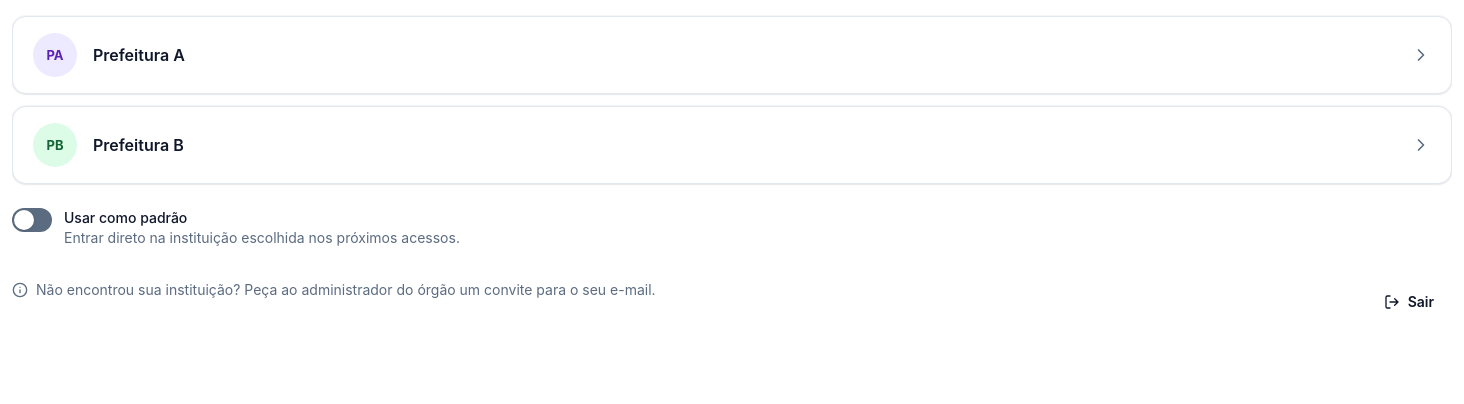
Test case: seleção de instituição (FA-01) › erro 403 TENANT_SUSPENDED vira mensagem inline com role=alert
Click the button "PA Prefeitura A": (55, 55) [12,16,1452,94]
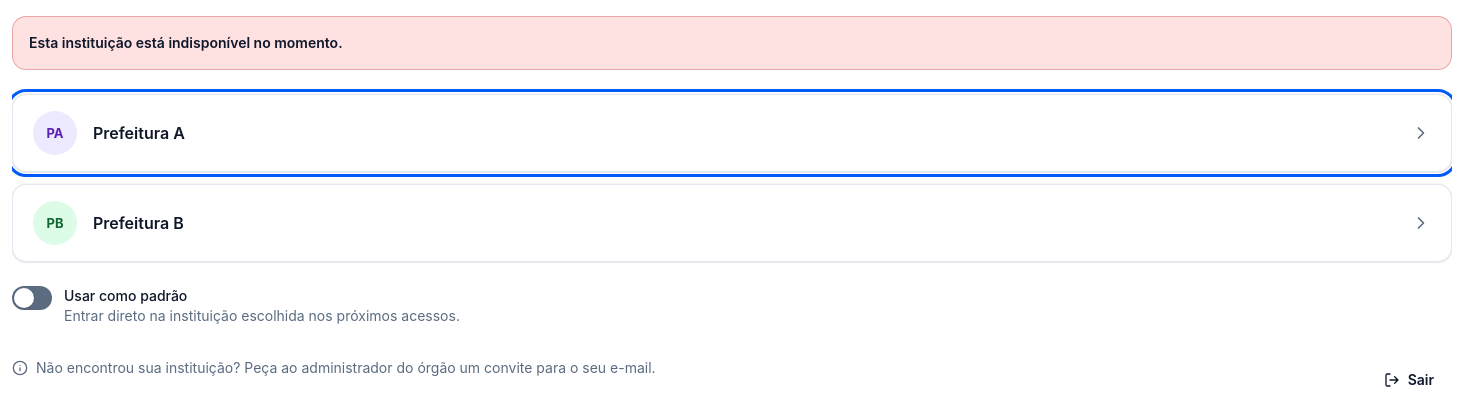
Expected: the message reads "Esta instituição está indisponível no momento.", [29,34,343,51]
